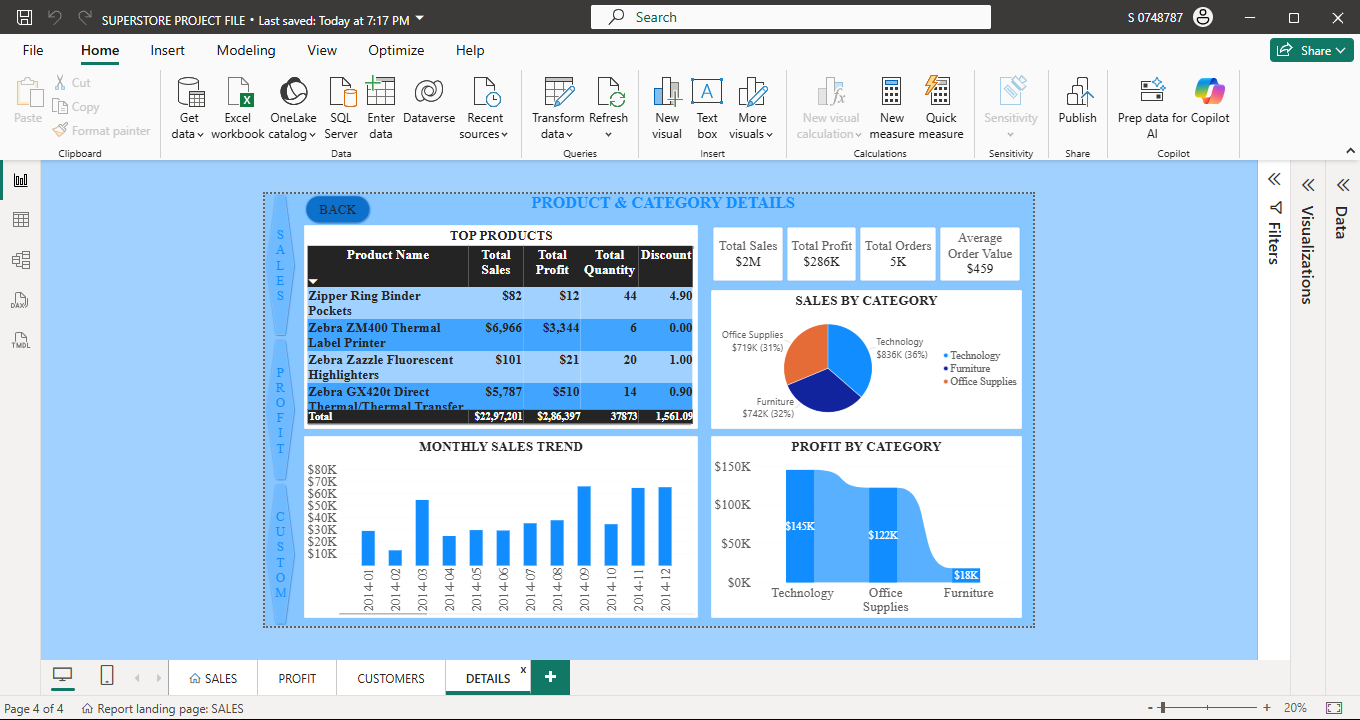

The dashboard page shown, as its layout file describes it:
{"tool":"powerbi","page":{"name":" DETAILS","canvas":[3840,2160],"ordinal":3},"visuals":[{"type":"actionButton","box":[193.2,0,338,153.7],"z":0},{"type":"cardVisual","fields":{"Data":["Date.Total Sales"]},"box":[2230,155,370,290],"z":1000},{"type":"cardVisual","fields":{"Data":["Date.Total Profit"]},"box":[2600,155,365,290],"z":2000},{"type":"cardVisual","fields":{"Data":["Date.Total Orders"]},"box":[2965,155,400,290],"z":3000},{"type":"cardVisual","fields":{"Data":["Date.Average Order Value"]},"box":[3365,155,420,290],"z":4000},{"type":"tableEx","title":"TOP PRODUCTS","fields":{"Values":["Sample - Superstore.Product Name","Date.Total Sales","Date.Total Profit","Date.Total Quantity","Sum(Sample - Superstore.Discount)"]},"box":[195,155,1970,1020],"z":5000},{"type":"lineStackedColumnComboChart","title":"MONTHLY SALES TREND","fields":{"Category":["Date.Year Month"],"Y":["Date.Total Sales"]},"box":[195,1210,1970,910],"z":6000},{"type":"textbox","box":[193.2,0,3591.2,153.7],"z":7000},{"type":"pieChart","title":"SALES BY CATEGORY","fields":{"Category":["Sample - Superstore.Category"],"Y":["Date.Total Sales"]},"box":[2230,480,1555,695],"z":8000},{"type":"ribbonChart","title":"PROFIT BY CATEGORY","fields":{"Category":["Sample - Superstore.Category"],"Y":["Date.Total Profit"]},"box":[2230,1210,1555,910],"z":9000},{"type":"pageNavigator","box":[0,0,155,2160],"z":10000}]}

Visuals, with their boxes on the page's 3840x2160 design canvas (x1, y1, x2, y2). These are canvas units, not pixel positions in the 1360x720 screenshot, which may show the page scaled, cropped or inside an application window:
actionButton: [193,0,531,154]
cardVisual - Date.Total Sales: [2230,155,2600,445]
cardVisual - Date.Total Profit: [2600,155,2965,445]
cardVisual - Date.Total Orders: [2965,155,3365,445]
cardVisual - Date.Average Order Value: [3365,155,3785,445]
"TOP PRODUCTS" tableEx: [195,155,2165,1175]
"MONTHLY SALES TREND" lineStackedColumnComboChart: [195,1210,2165,2120]
textbox: [193,0,3784,154]
"SALES BY CATEGORY" pieChart: [2230,480,3785,1175]
"PROFIT BY CATEGORY" ribbonChart: [2230,1210,3785,2120]
pageNavigator: [0,0,155,2160]
